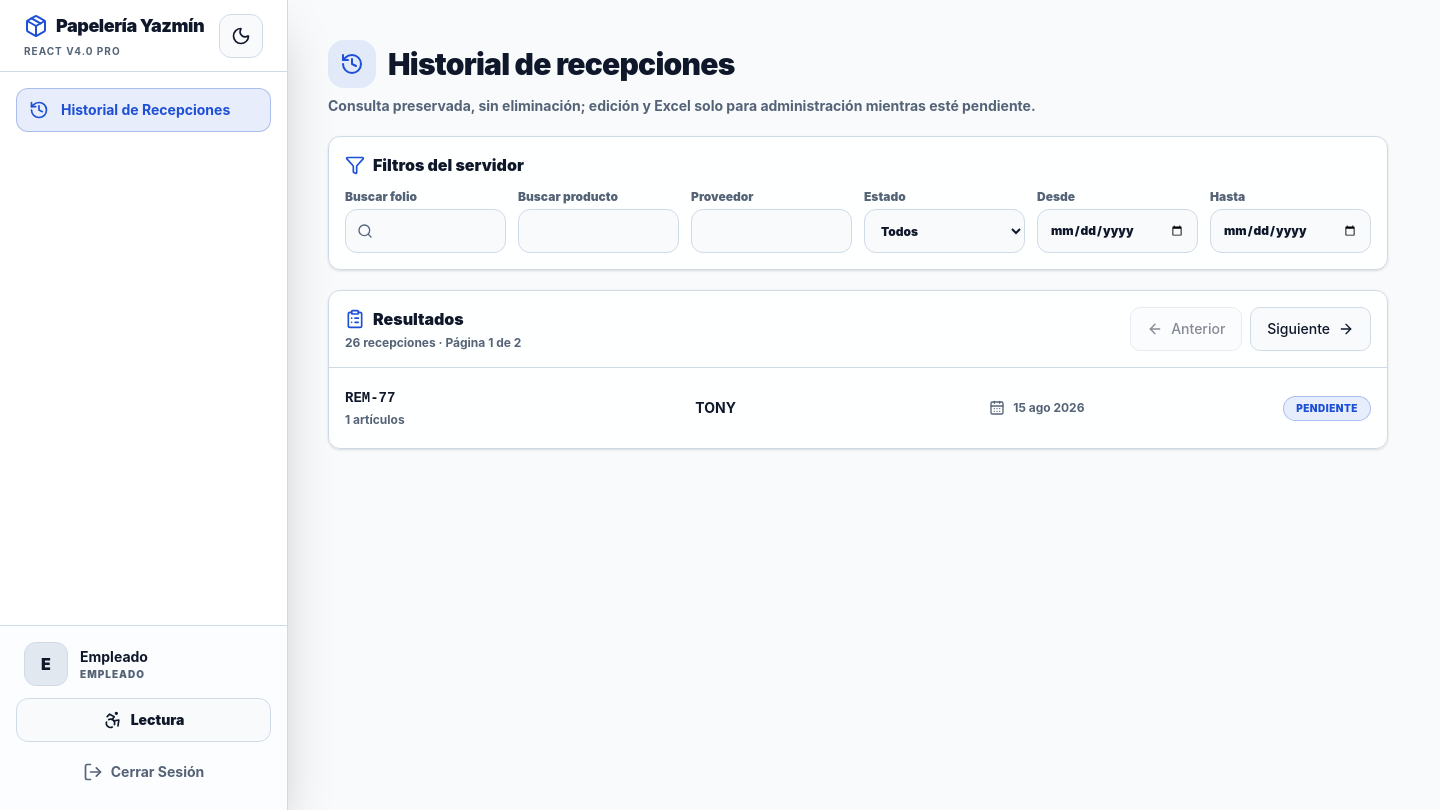
it: keeps a limited history session read only while exposing detail, notes and audit
The width and height of the screenshot is (1440, 810).
Click the button with aria-label "abrir REM-77" at (370, 398), box [329,368,1387,448]
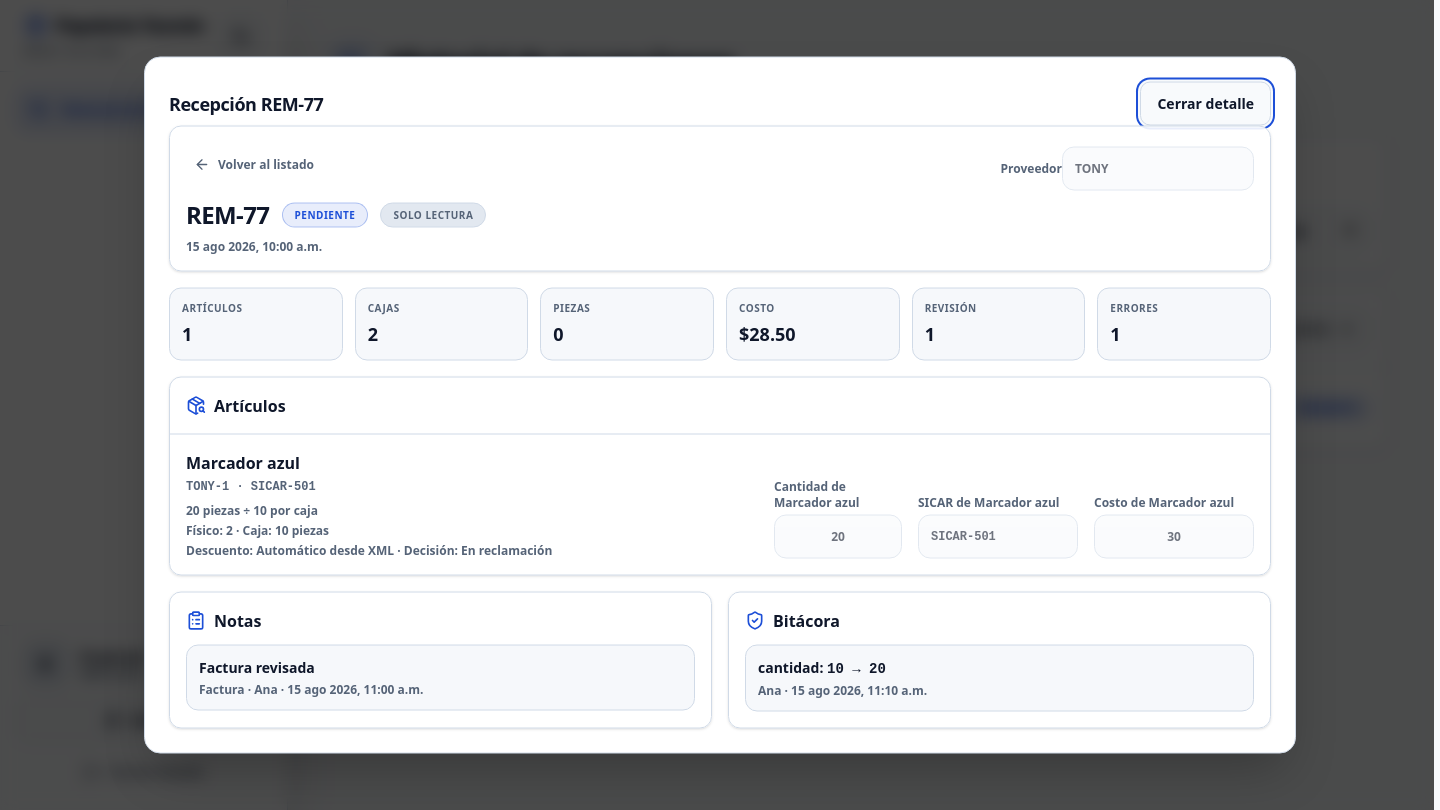
Now the text "Solo lectura" is shown, box [380,202,486,227]
Now the text "Factura revisada" is shown, box [199,658,315,676]
Now the text "cantidad: 10 → 20" is shown, box [758,658,886,676]
